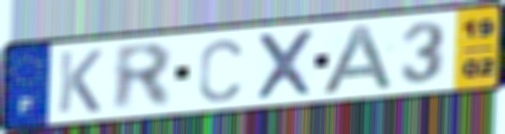3: (398, 19, 450, 86)
A: (318, 22, 398, 96)
C: (196, 36, 245, 104)
K: (55, 47, 105, 115)
R: (112, 41, 175, 114)
X: (254, 27, 317, 102)
